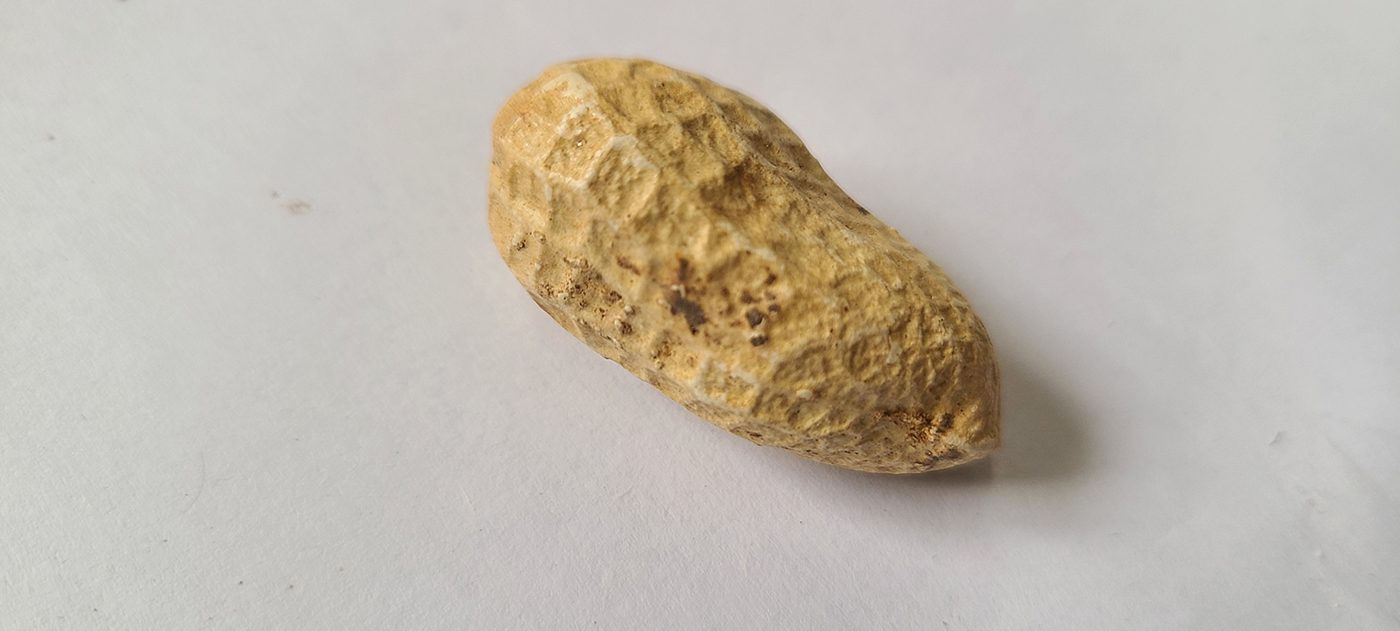h: (486, 52, 1005, 473)
